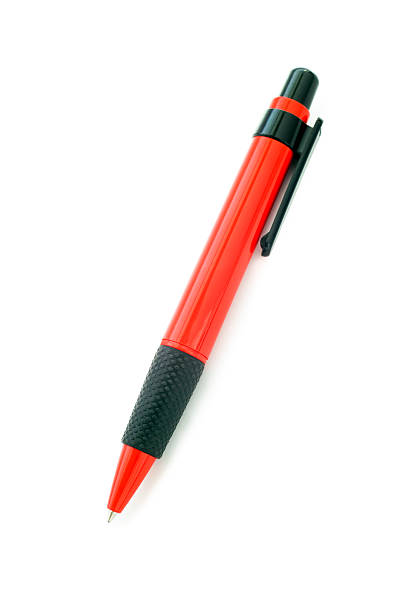pen: (89, 48, 337, 554)
